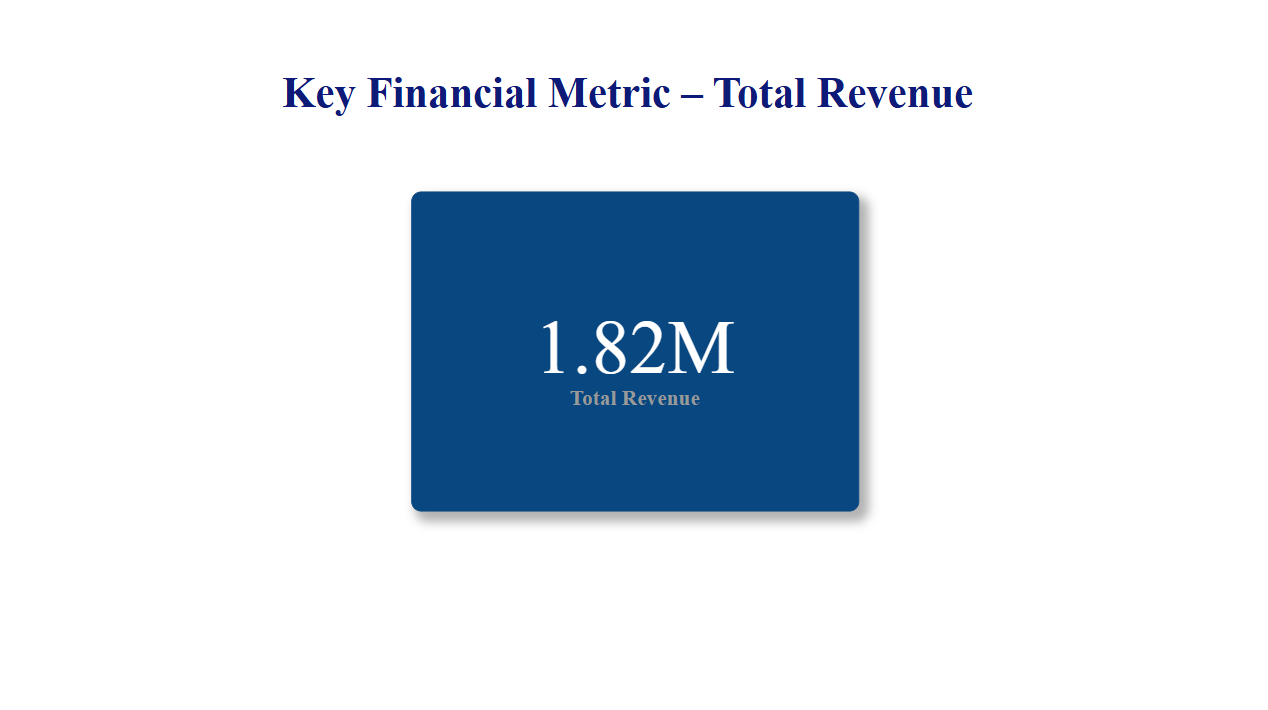

What the dashboard file says about the page in this screenshot:
{"tool":"powerbi","page":{"name":"Page 2","canvas":[1280,720],"ordinal":1},"visuals":[{"type":"card","fields":{"Values":["Sheet1.Total Revenue"]},"box":[416,192,448,320],"z":0},{"type":"textbox","box":[272,64,720,96],"z":1000}]}

Visuals, with their boxes in screenshot pixels (x1, y1, x2, y2), scaled from the page's 1280x720 canvas onto the 1268x710 screenshot:
card - Sheet1.Total Revenue: {"x1": 412, "y1": 189, "x2": 856, "y2": 505}
textbox: {"x1": 269, "y1": 63, "x2": 983, "y2": 158}
